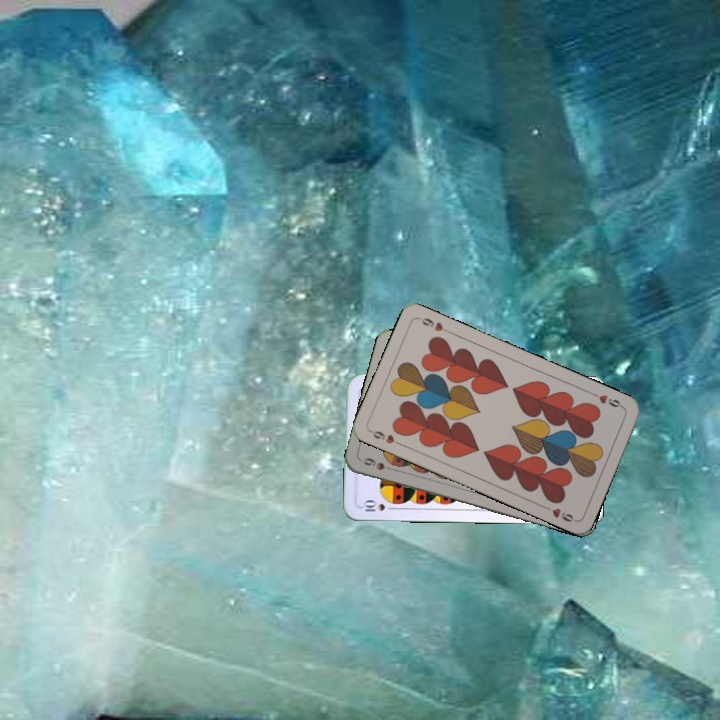H9: (366, 426, 404, 448), (588, 389, 626, 411)
S10: (358, 497, 398, 514)
S9: (359, 454, 398, 473)
